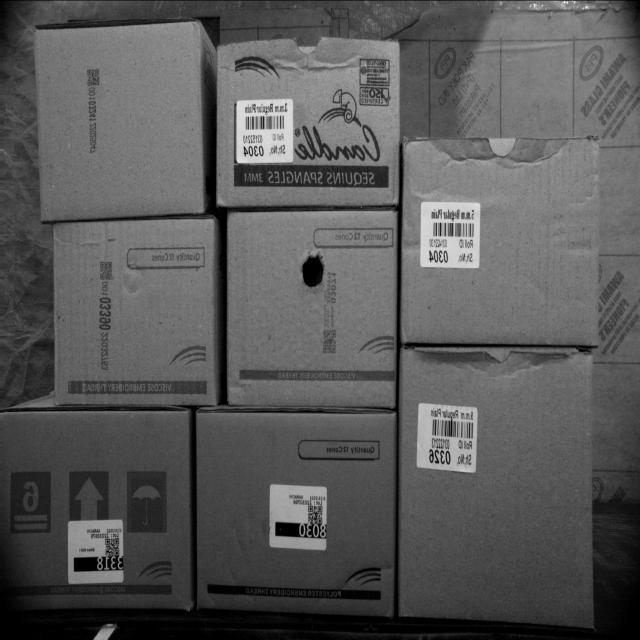cardboxes: (397, 349, 592, 630), (191, 411, 395, 618), (401, 141, 597, 349), (222, 211, 396, 409), (50, 222, 232, 408), (35, 18, 202, 218), (217, 40, 401, 206)
